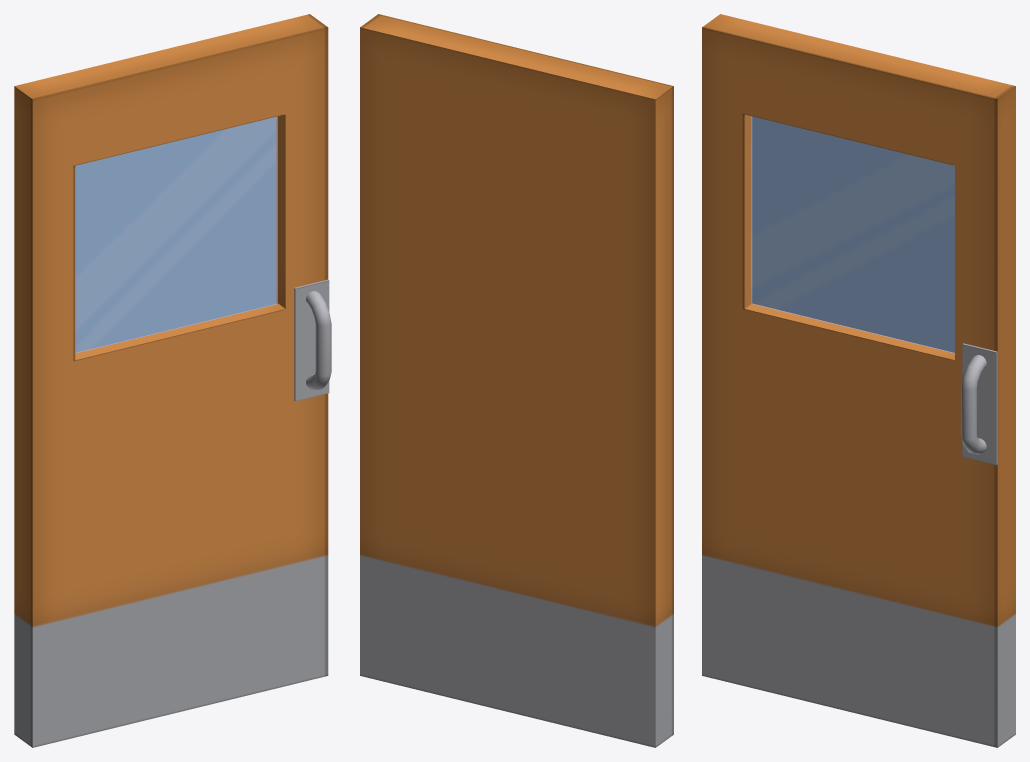
Rendered from L_Door_Asset.fbx.
3 renders of one model, left to right at view 1: azimuth 30°, elevation 25°; view 2: azimuth 150°, elevation 25°; view 3: azimuth 330°, elevation 25°, orthographic.
Parts seen in each view (by area): view 1: L_Door; view 2: L_Door; view 3: L_Door.
Boxes of the visible parts, <box> form: L_Door: <box>14,14,331,747</box>; L_Door: <box>360,14,673,747</box>; L_Door: <box>702,14,1015,747</box>.
Bounding box in the file's own units: 2.27 × 4.76 × 0.4546.
Materials: 1 (1 with a texture image).
